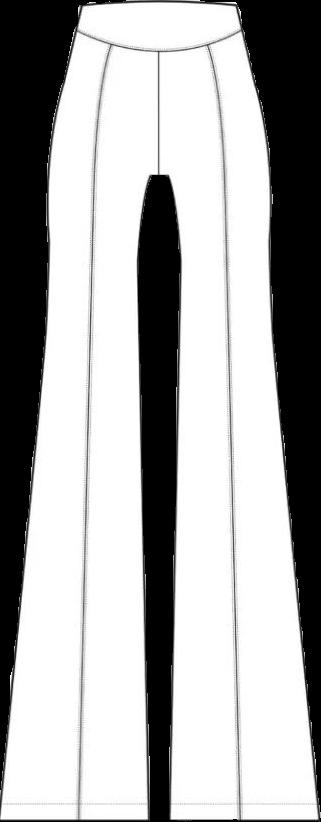Hemline: (167, 808, 320, 821), (0, 809, 152, 821)
Pantleg: (154, 1, 319, 821), (0, 1, 153, 820)
Waistline: (73, 23, 248, 58), (77, 0, 241, 14)
